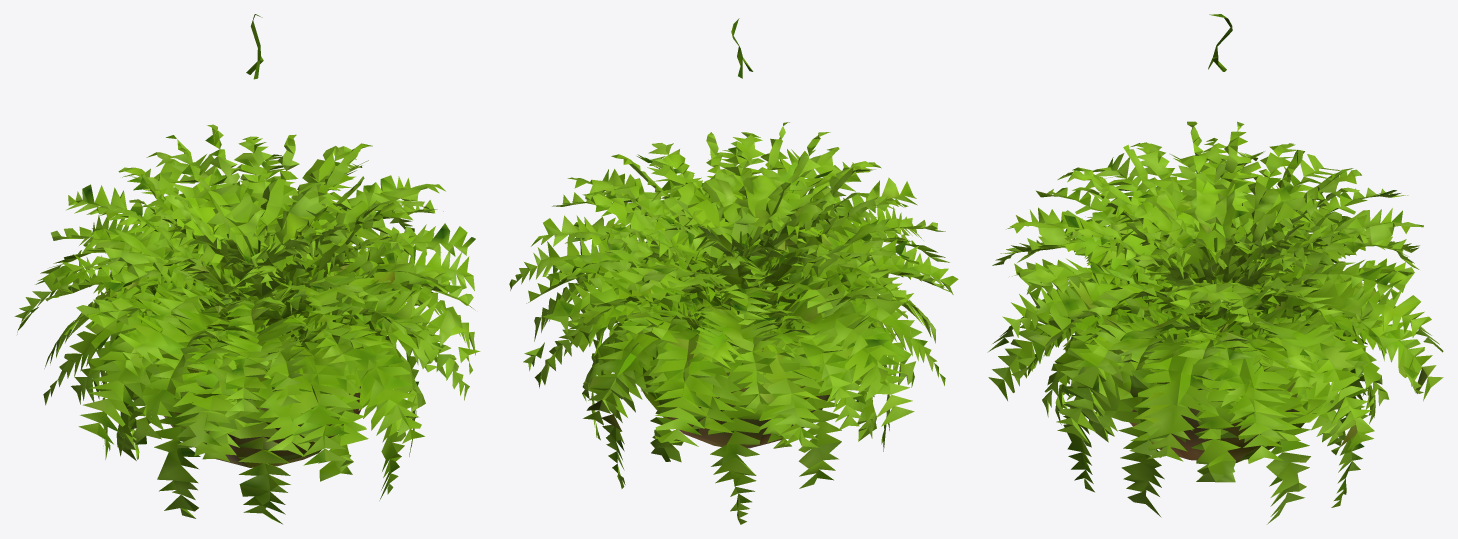
File: hanging-fern.glb
3 views of the same model, side by side, from view 1: azimuth 30°, elevation 25°; view 2: azimuth 150°, elevation 25°; view 3: azimuth 270°, elevation 25° (orthographic). The views are drawn at different scales.
Size of the model in its own units: 1.61 by 1.83 by 1.61.
Materials: 1 (1 with a texture image).
